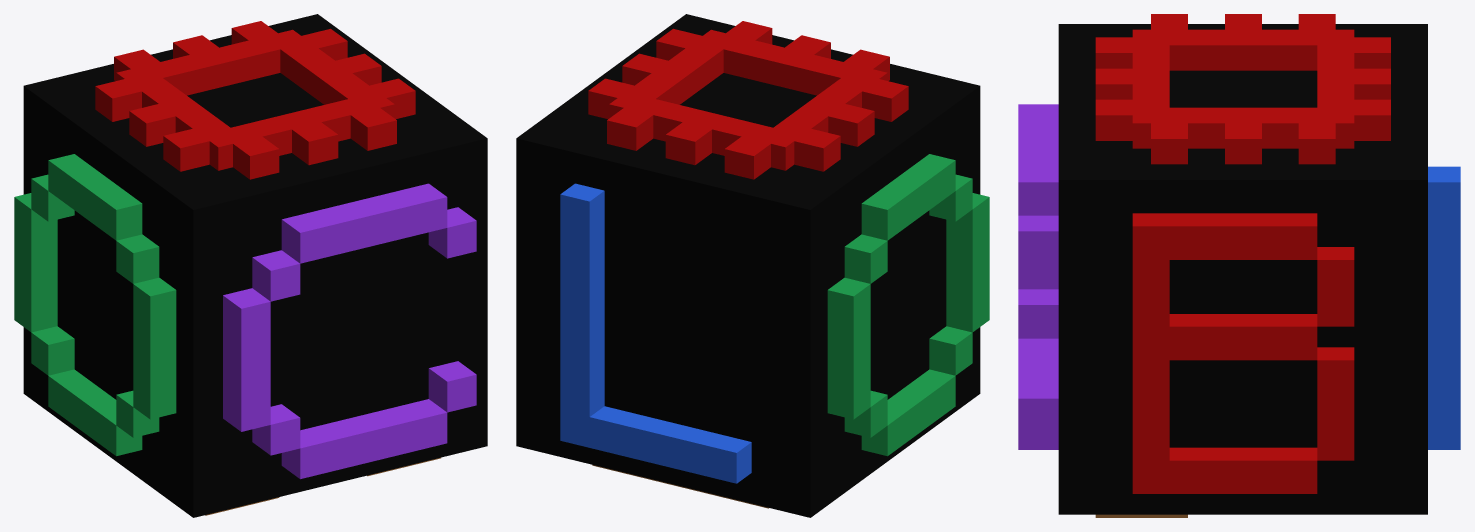
Rendered from BLOC.glb.
3 renders of one model, left to right at view 1: azimuth 30°, elevation 25°; view 2: azimuth 150°, elevation 25°; view 3: azimuth 270°, elevation 25°, orthographic. The views are drawn at different scales.
Visible parts, largest first — view 1: Cube; view 2: Cube; view 3: Cube.
Part boxes in pixels (<box>): Cube: <box>14,14,487,517</box>; Cube: <box>516,14,989,517</box>; Cube: <box>1018,14,1460,517</box>.
Size of the model in its own units: 7.25 by 7.01 by 7.4.
